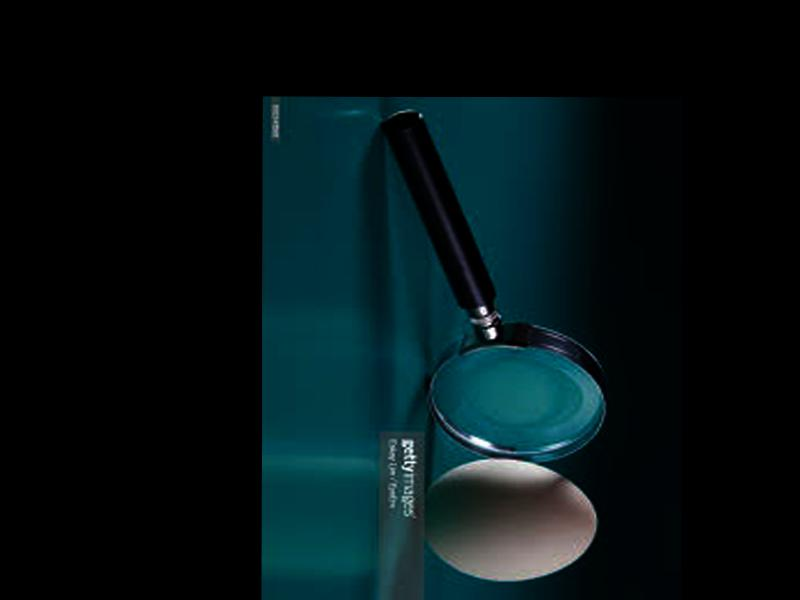Eggs: (421, 457, 598, 582)
